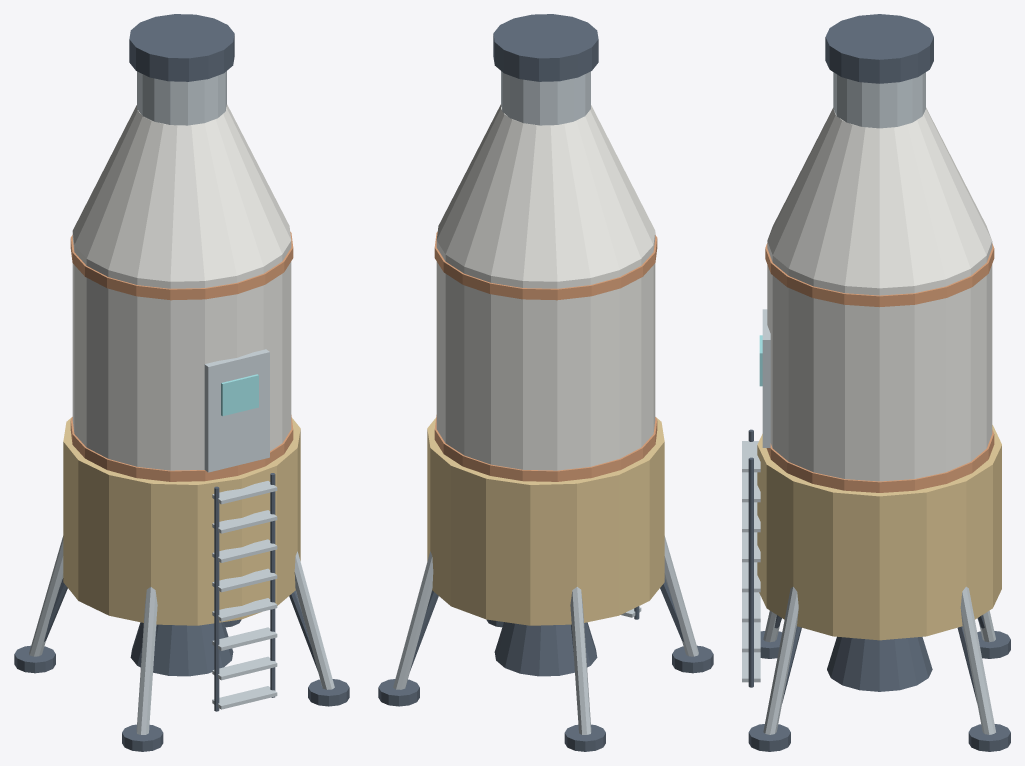
The model's file is lander.glb.
3 renders of one model, left to right at view 1: azimuth 30°, elevation 25°; view 2: azimuth 150°, elevation 25°; view 3: azimuth 270°, elevation 25°, orthographic. The views are drawn at different scales.
Visible parts, largest first — view 1: Habitat_module, Lower_module, Upper_shell, Docking_ring, Hatch, Docking_neck, Engine_bell, Accent_7_3, Accent_4_2, Leg_3, Leg_0, Hatch_window (+14 smaller); view 2: Habitat_module, Lower_module, Upper_shell, Docking_ring, Engine_bell, Docking_neck, Accent_7_3, Accent_4_2, Leg_2, Leg_1, Leg_3, Foot_1 (+2 smaller); view 3: Habitat_module, Lower_module, Upper_shell, Docking_ring, Engine_bell, Docking_neck, Accent_7_3, Accent_4_2, Leg_0, Leg_1, Ladder_rail_0_5, Hatch (+4 smaller).
Part boxes in pixels (x1=…): Habitat_module: x1=72, y1=232, x2=291, y2=470; Lower_module: x1=63, y1=417, x2=300, y2=625; Upper_shell: x1=72, y1=104, x2=291, y2=281; Docking_ring: x1=129, y1=14, x2=234, y2=81; Hatch: x1=204, y1=349, x2=269, y2=472; Docking_neck: x1=137, y1=71, x2=226, y2=125; Engine_bell: x1=130, y1=622, x2=233, y2=676; Accent_7_3: x1=70, y1=232, x2=293, y2=300; Accent_4_2: x1=70, y1=415, x2=293, y2=481; Leg_3: x1=136, y1=587, x2=157, y2=734; Leg_0: x1=294, y1=551, x2=334, y2=689; Hatch_window: x1=221, y1=374, x2=258, y2=416; Habitat_module: x1=436, y1=232, x2=655, y2=470; Lower_module: x1=427, y1=417, x2=664, y2=625; Upper_shell: x1=436, y1=104, x2=655, y2=281; Docking_ring: x1=493, y1=14, x2=598, y2=81; Engine_bell: x1=494, y1=622, x2=597, y2=676; Docking_neck: x1=501, y1=71, x2=590, y2=125; Accent_7_3: x1=434, y1=232, x2=657, y2=300; Accent_4_2: x1=434, y1=415, x2=657, y2=481; Leg_2: x1=570, y1=587, x2=591, y2=734; Leg_1: x1=393, y1=551, x2=433, y2=689; Leg_3: x1=664, y1=536, x2=698, y2=656; Foot_1: x1=378, y1=679, x2=419, y2=706; Habitat_module: x1=767, y1=241, x2=992, y2=481; Lower_module: x1=757, y1=425, x2=1001, y2=640; Upper_shell: x1=767, y1=107, x2=991, y2=288; Docking_ring: x1=825, y1=14, x2=933, y2=83; Engine_bell: x1=827, y1=636, x2=932, y2=691; Docking_neck: x1=833, y1=72, x2=925, y2=128; Accent_7_3: x1=765, y1=243, x2=994, y2=307; Accent_4_2: x1=766, y1=429, x2=994, y2=492; Leg_0: x1=763, y1=586, x2=798, y2=734; Leg_1: x1=960, y1=586, x2=995, y2=734; Ladder_rail_0_5: x1=748, y1=457, x2=753, y2=687; Hatch: x1=762, y1=309, x2=770, y2=447.
Size of the model in its own units: 3.96 by 11 by 4.06.
